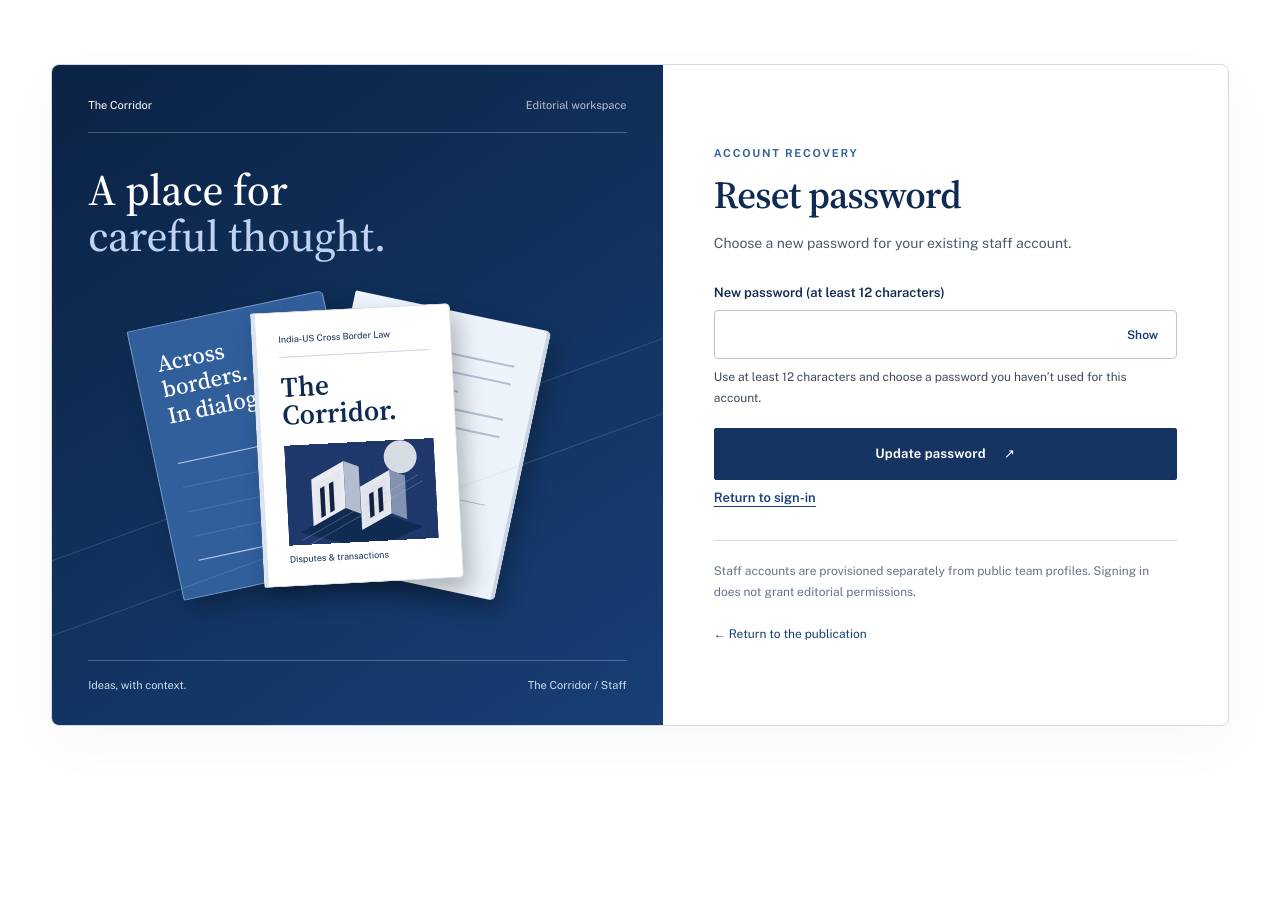
Test: recovery password validation keeps the existing recovery-session authorization and update API (mock provider)
This screenshot has width=1280, height=900.
Type "short" into the password field labelled "New password (at least 12 characters)".
click(945, 335); type("short")  # box [714,310,1177,359]
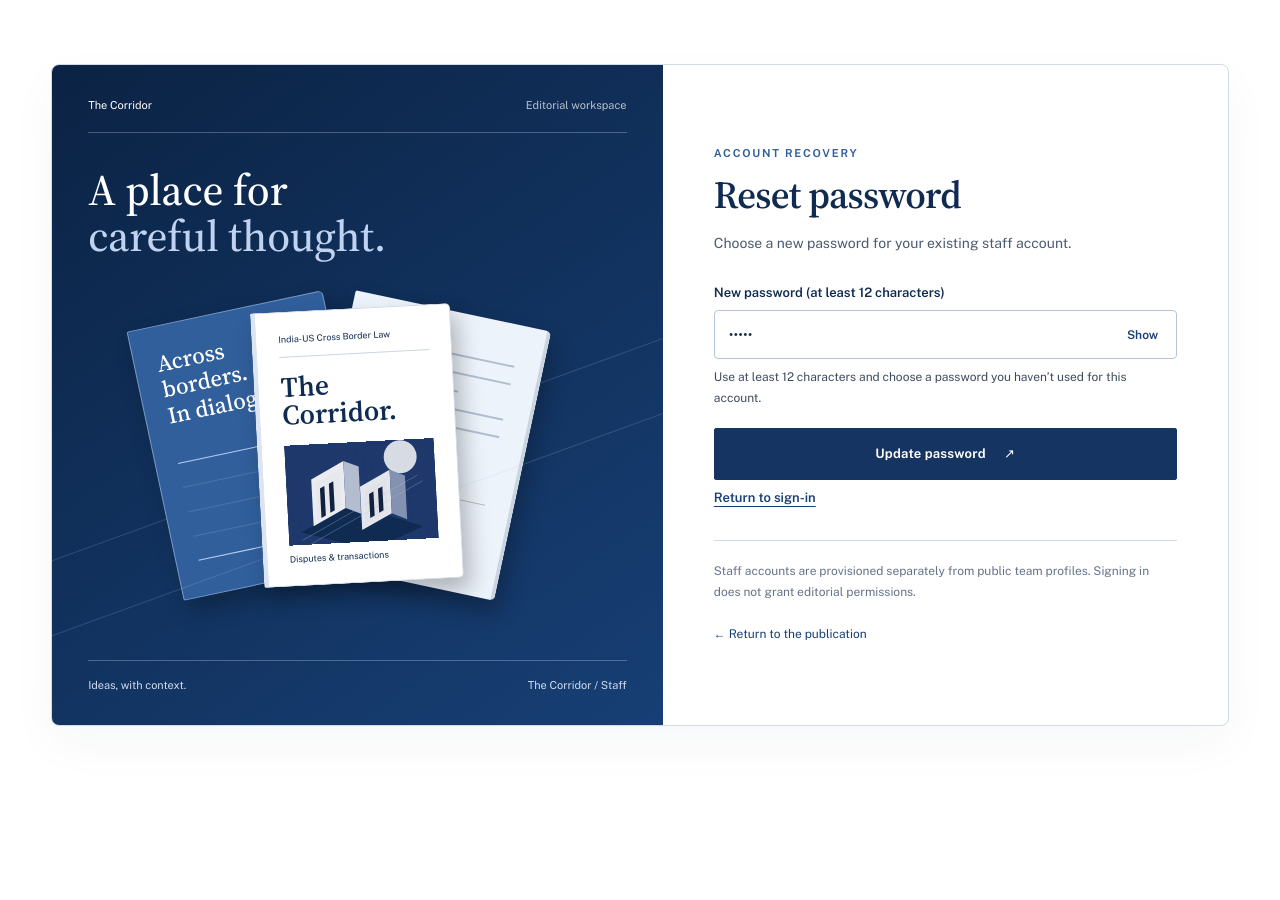
Click the button "Update password ↗".
click(945, 454)  # box [714,428,1177,480]
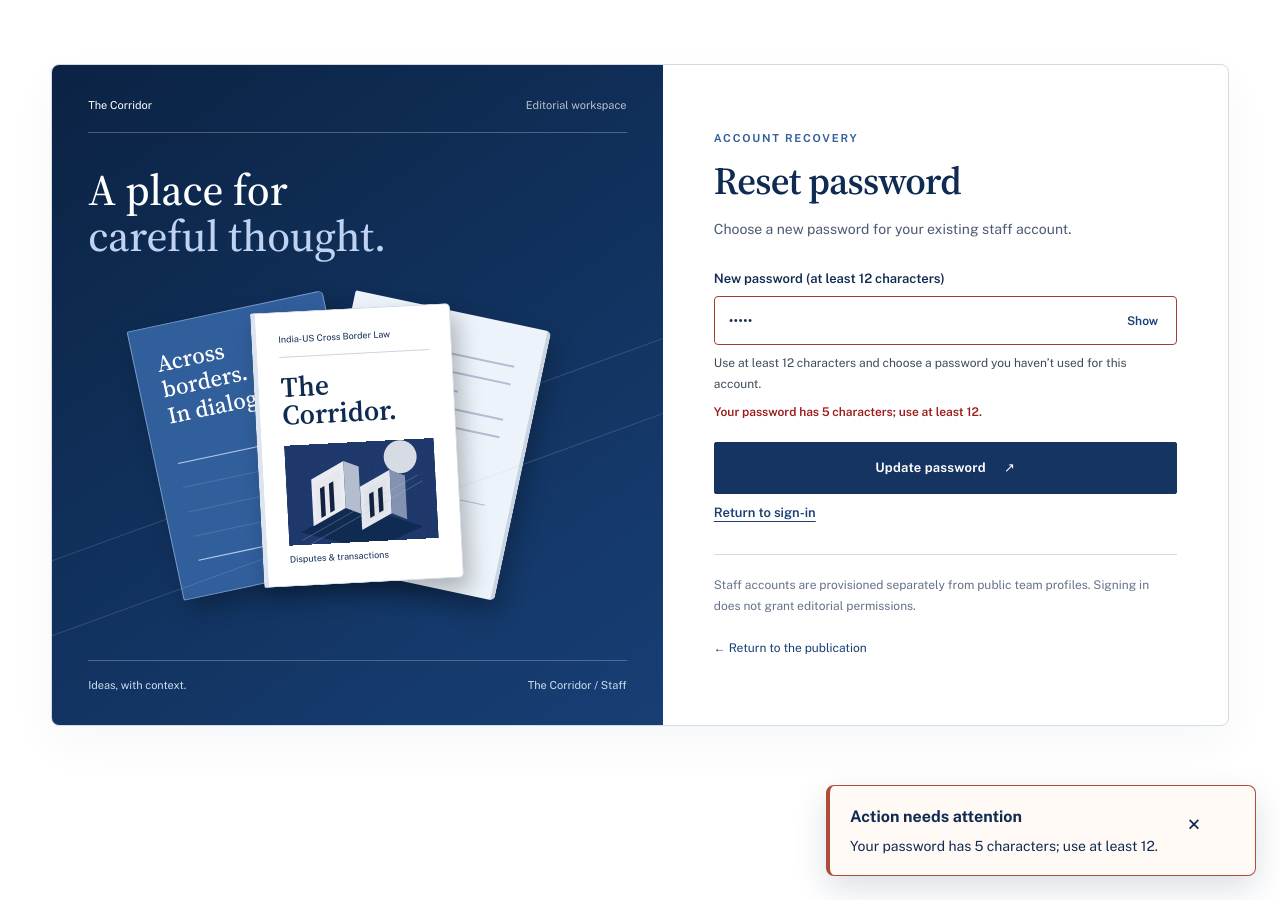
Result: the text "Your password has 5 characters; use at least 12." below "New password (at least 12 characters)" is shown at [714,405,982,419]
Type "fictional-new-password" into the password field labelled "New password (at least 12 characters)".
click(945, 321); type("fictional-new-password")  # box [714,296,1177,345]
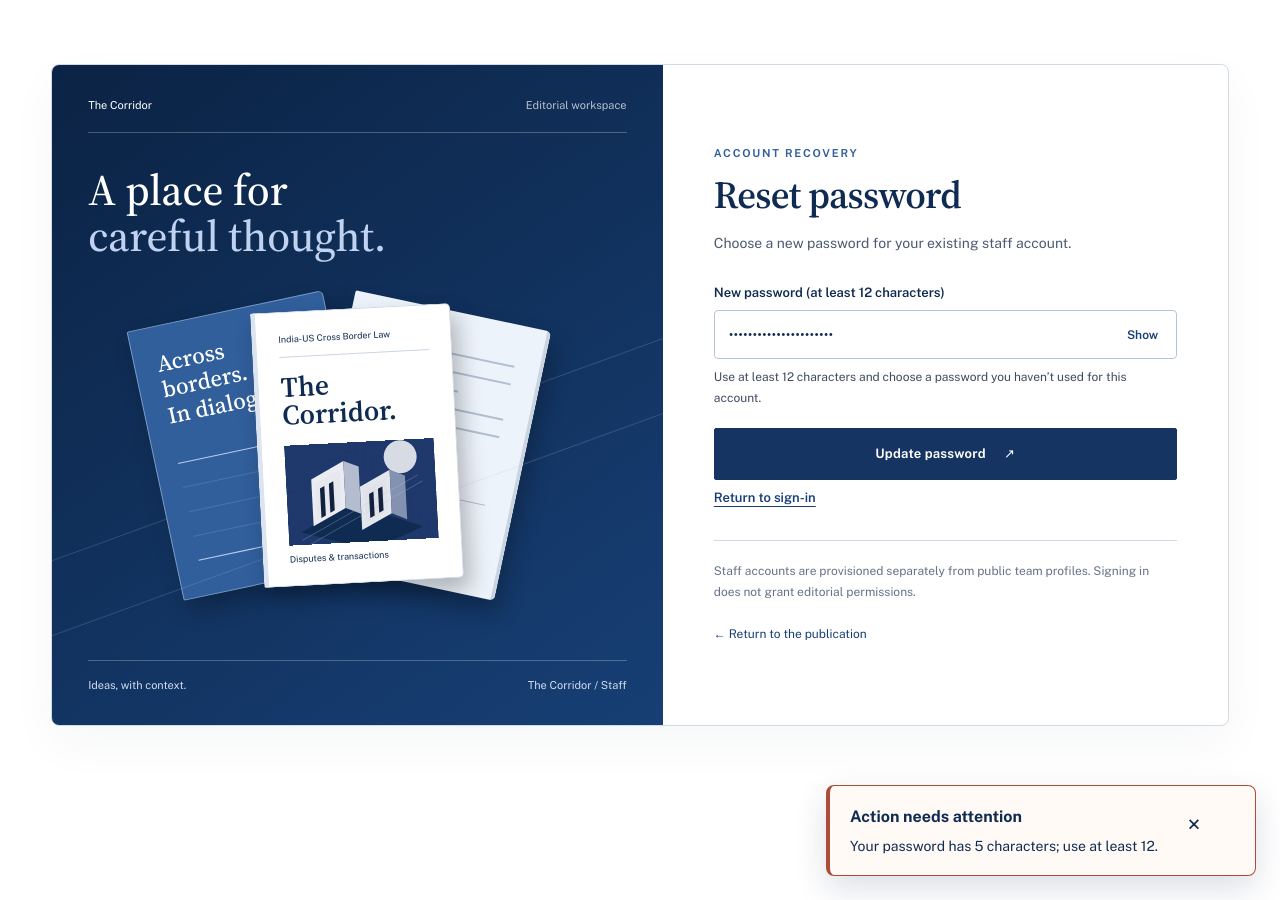
Click the button "Update password ↗".
click(945, 454)  # box [714,428,1177,480]
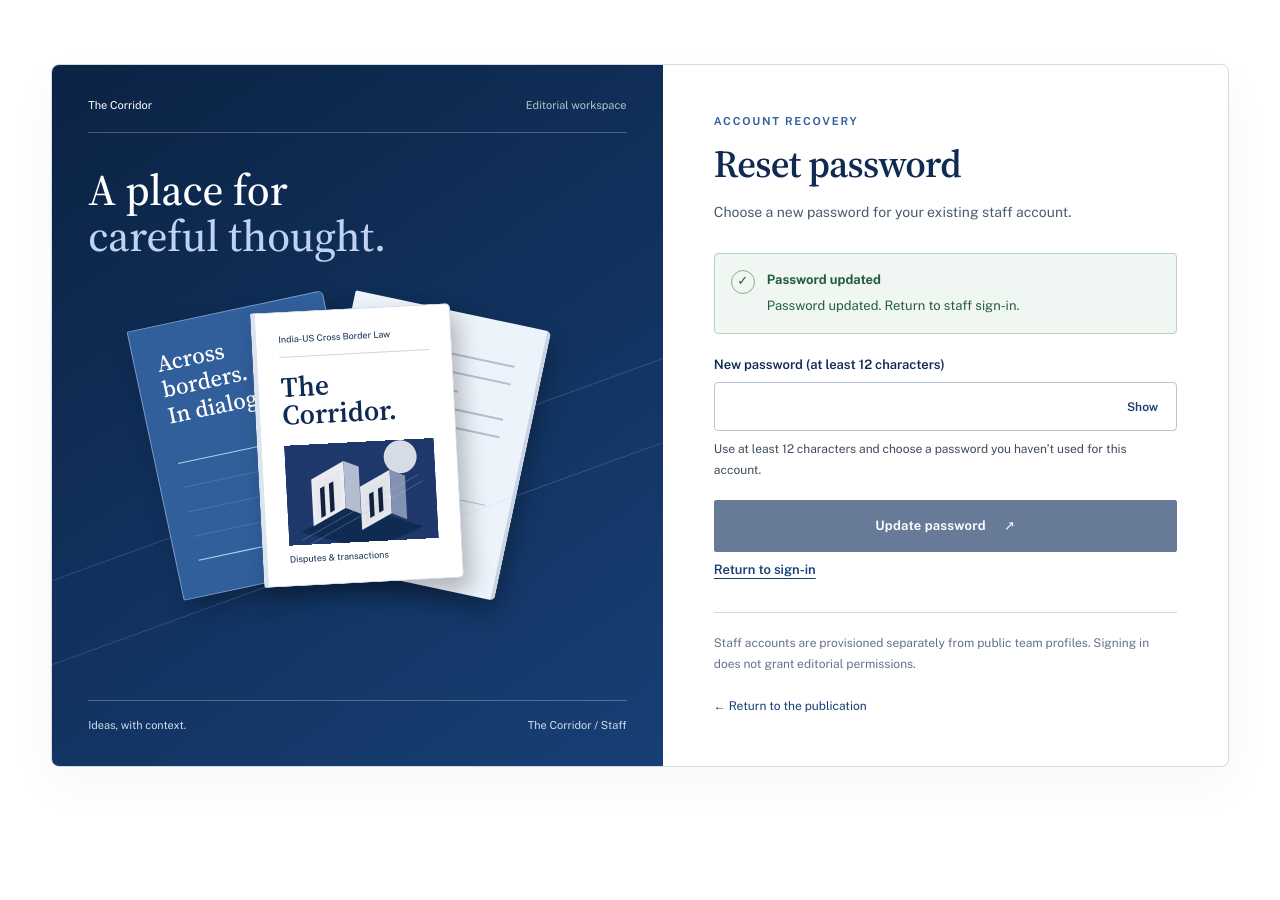
Result: the text "Password updated. Return to staff sign-in." is shown at [767,296,1019,317]
Result: the password field labelled "New password (at least 12 characters)" is empty at [714,382,1177,431]
Result: the button "Update password ↗" is disabled at [714,500,1177,552]
